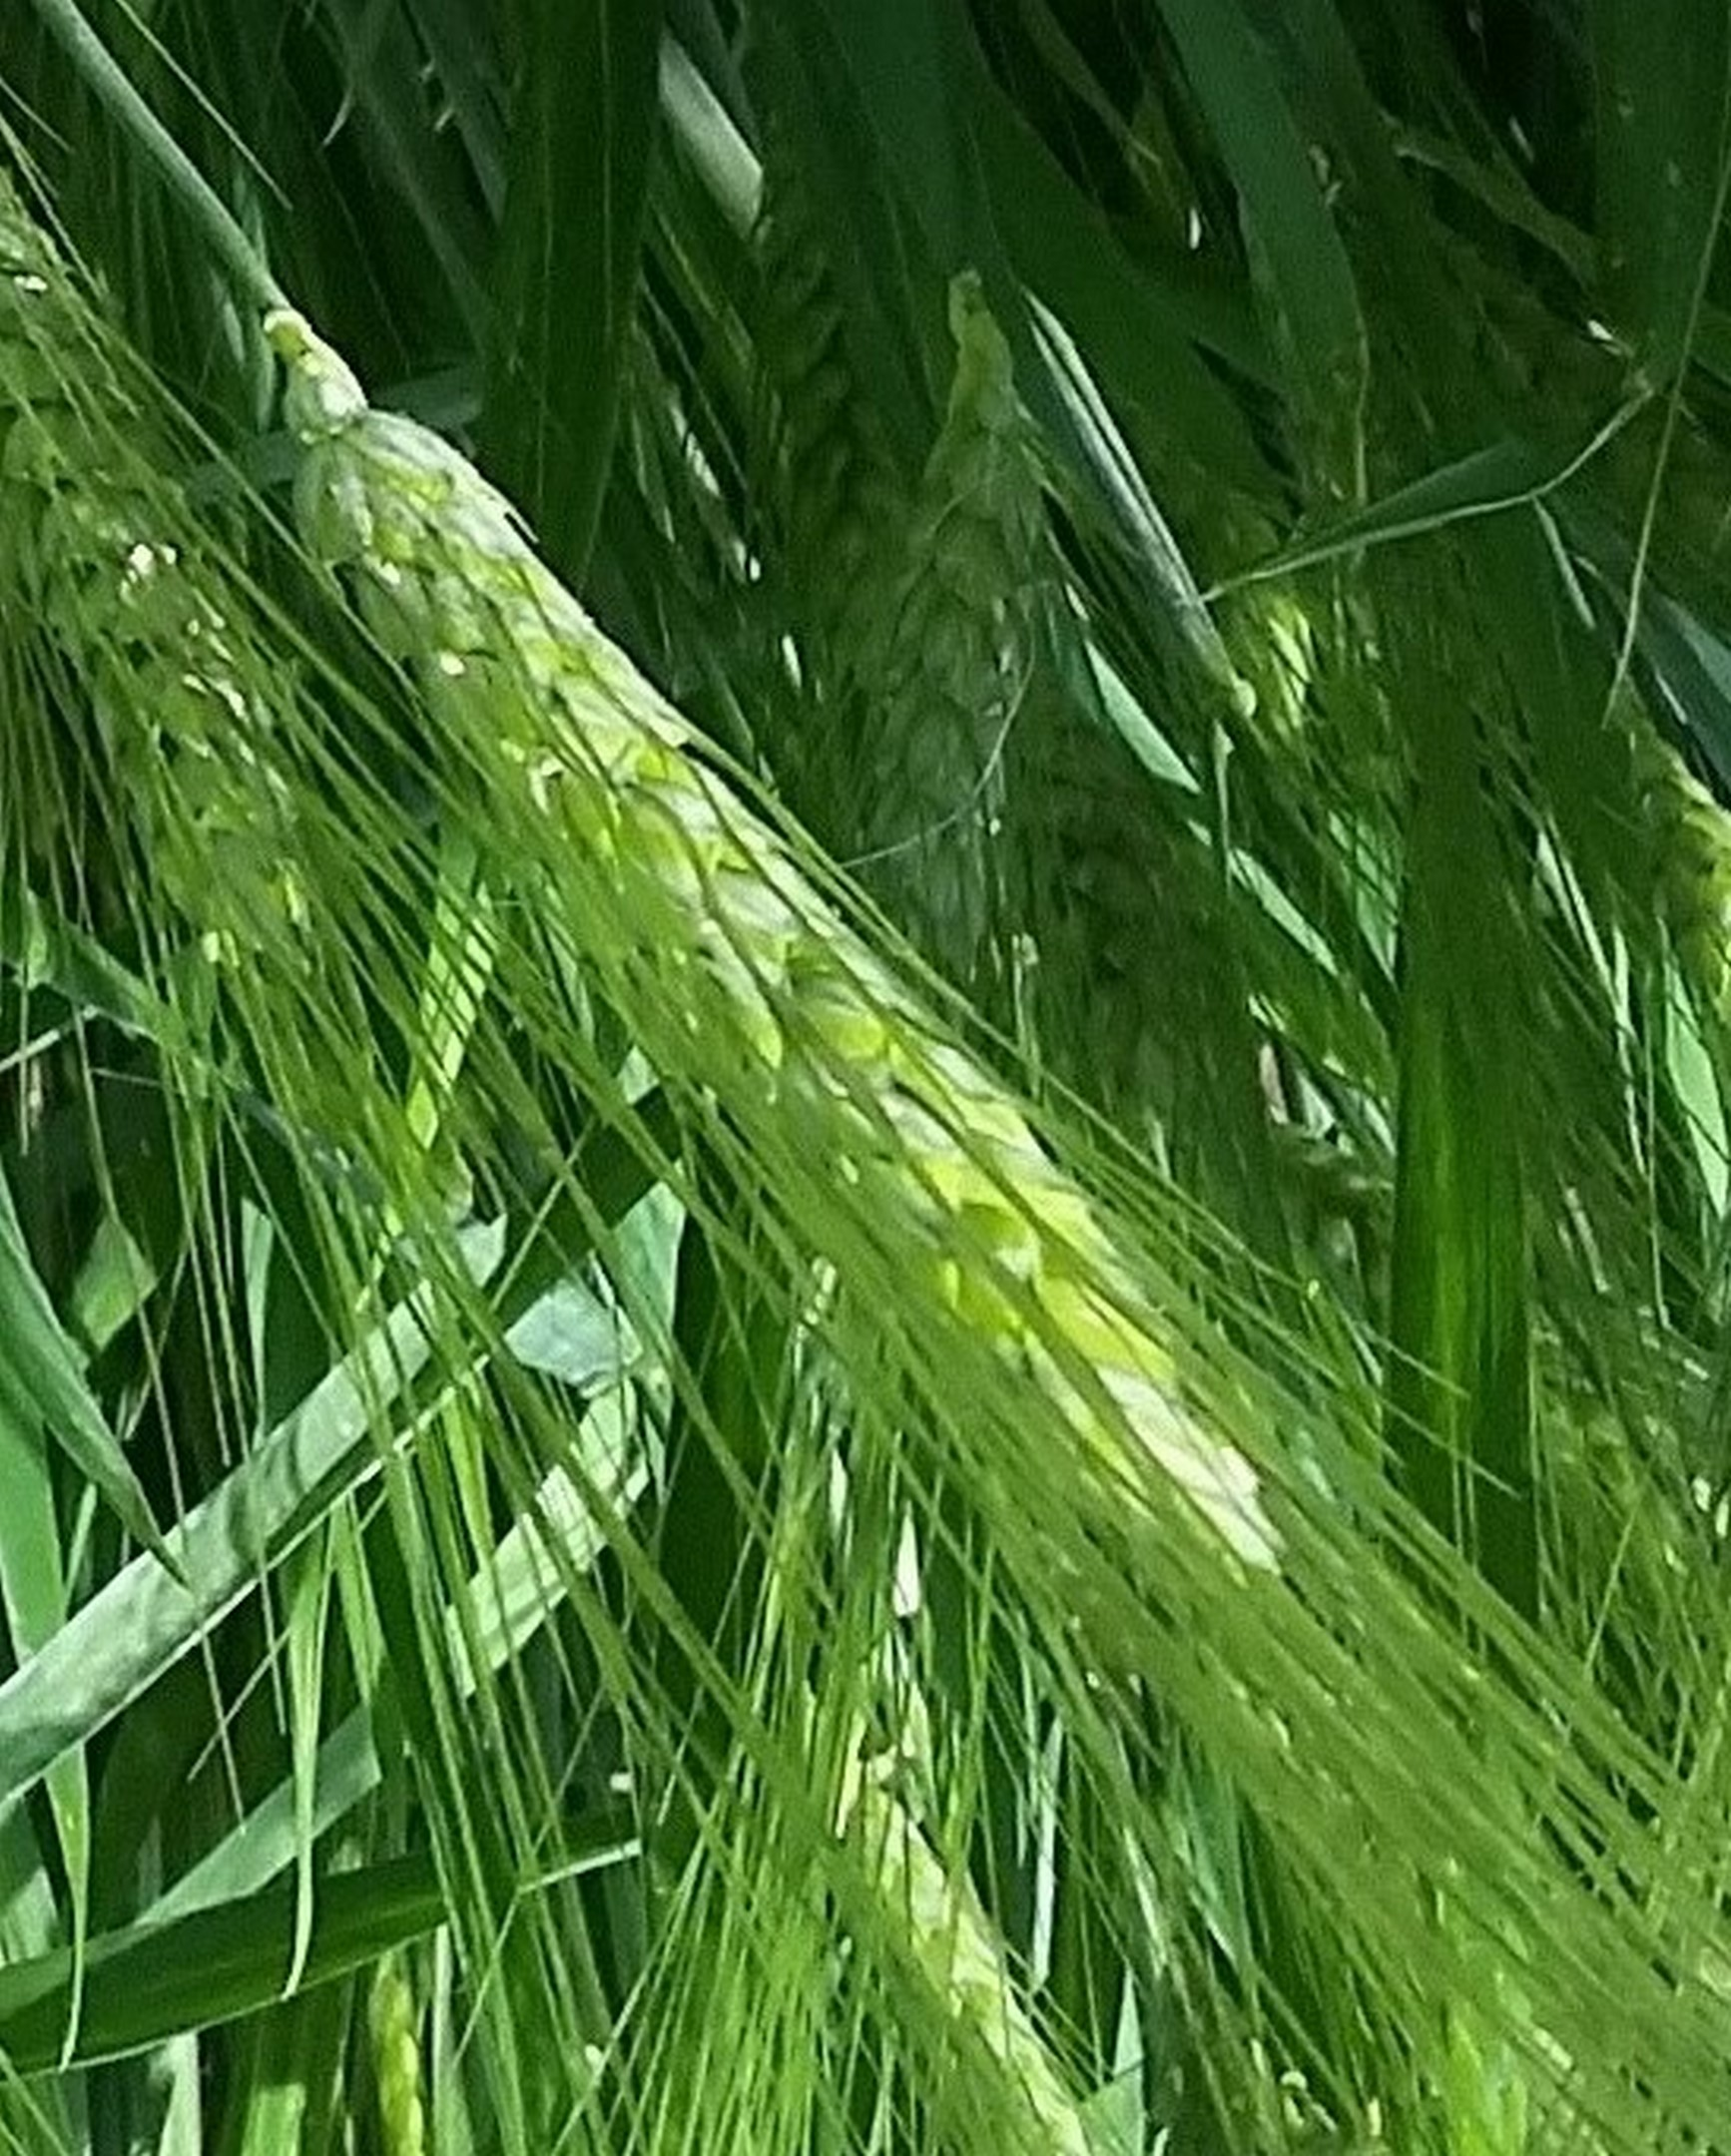Healthy Wheat: (256, 366, 1365, 1635)
